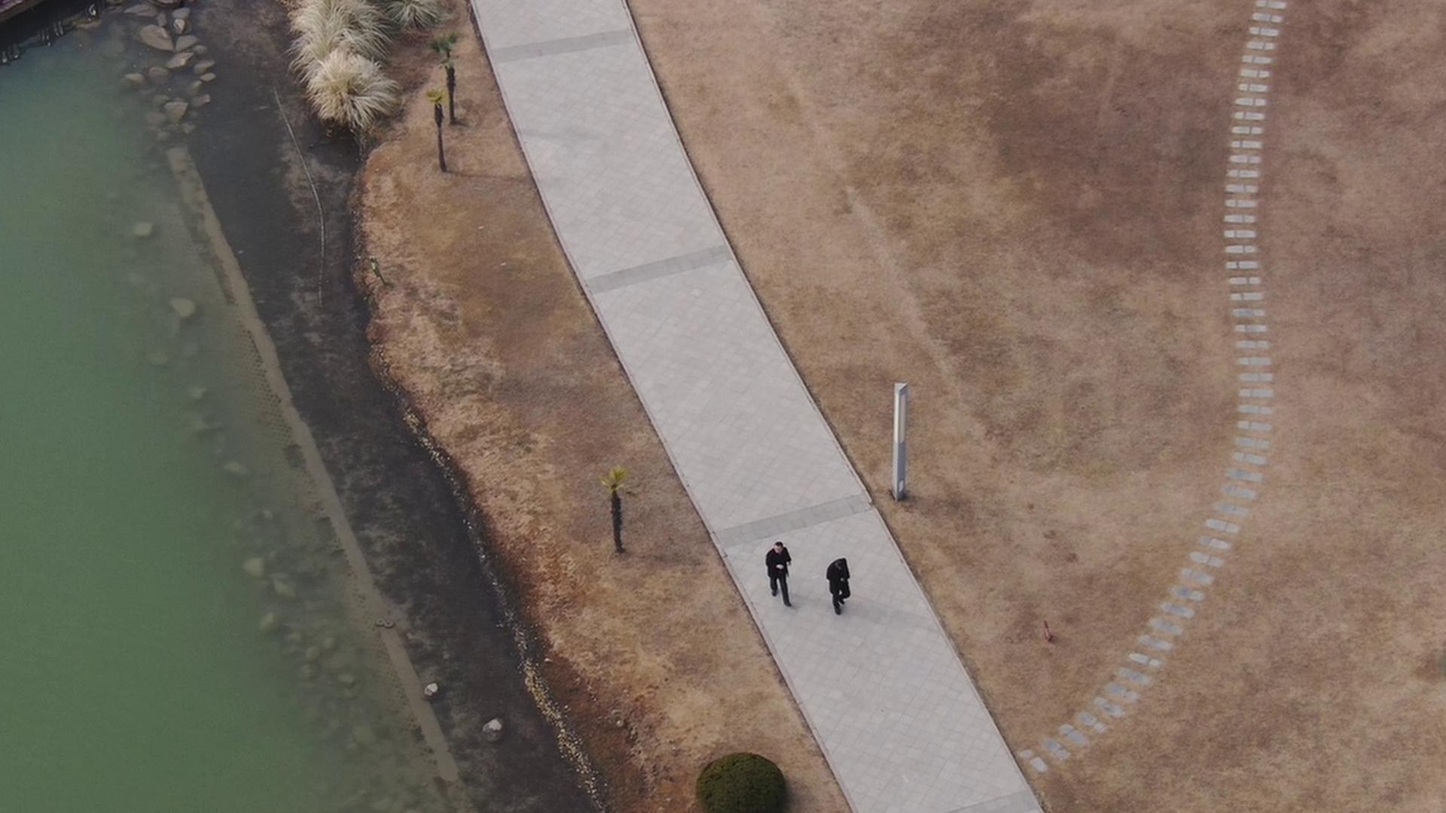human: (759, 537, 798, 604), (822, 556, 858, 628)
